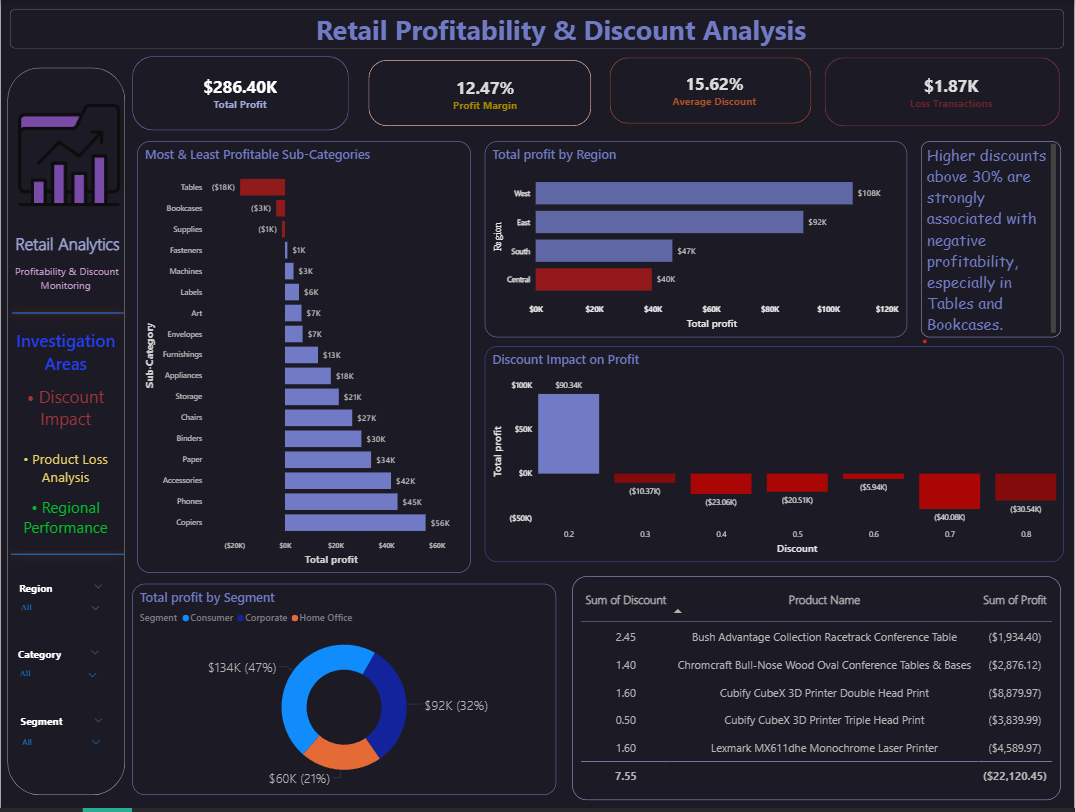

The page's visual inventory and layout, read from the dashboard file:
{"tool":"powerbi","page":{"name":"Page 1","canvas":[1700,1280],"ordinal":0},"visuals":[{"type":"shape","box":[13.5,13.5,1669.2,63.5],"z":0},{"type":"shape","box":[964,91.3,319.1,104.6],"z":0,"group":"g8"},{"type":"group","id":"g1","title":"Group 4","box":[6.8,106,196,1152],"z":0,"group":"g3"},{"type":"slicer","fields":{"Values":["retail_sales.Region"]},"box":[16.7,912.4,156.7,101],"z":0,"group":"g11"},{"type":"textbox","box":[17.3,11.5,1607.7,76.9],"z":1000},{"type":"cardVisual","fields":{"Data":["retail_sales.Average Discount"]},"box":[995,97.9,268.8,89.7],"z":1000,"group":"g8"},{"type":"shape","box":[2,860,208,33.5],"z":1000,"group":"g3"},{"type":"slicer","fields":{"Values":["retail_sales.Category"]},"box":[15.3,1017.7,153.8,105.3],"z":1000,"group":"g11"},{"type":"shape","box":[1304.7,91.3,372.2,108.8],"z":2000,"group":"g12"},{"type":"group","id":"g2","title":"Group 2","box":[214.8,224.1,527.8,681.5],"z":2000},{"type":"shape","box":[3.9,472.2,204.1,45.1],"z":2000,"group":"g3"},{"type":"slicer","fields":{"Values":["retail_sales.Segment"]},"box":[18.1,1125.2,155.3,92.4],"z":2000,"group":"g11"},{"type":"shape","box":[581.9,94.2,352.5,104.6],"z":3000,"group":"g10"},{"type":"group","id":"g3","title":"Group 5","box":[2,106,208,1152],"z":3000,"group":"g13"},{"type":"textbox","box":[7.9,360.8,194.8,67.9],"z":3000,"group":"g11"},{"type":"group","id":"g4","title":"Group 6","box":[765.9,548.2,916.3,342.4],"z":3000},{"type":"group","id":"g5","title":"Group 12","box":[207.7,88.5,1469.2,117.3],"z":4000},{"type":"cardVisual","fields":{"Data":["retail_sales.Loss Transactions"]},"box":[1352.1,97.4,305.3,96.1],"z":4000,"group":"g12"},{"type":"textbox","box":[7.9,413.2,188.9,67.9],"z":4000,"group":"g11"},{"type":"group","id":"g6","title":"Group 1","box":[207.7,88.5,342.7,117.3],"z":5000,"group":"g5"},{"type":"shape","box":[207.7,88.5,342.7,117.3],"z":5000,"group":"g6"},{"type":"clusteredBarChart","fields":{"Y":["retail_sales.Total profit"],"Category":["retail_sales.Region"]},"box":[765.9,223.6,668.9,310.7],"z":5000},{"type":"textbox","box":[6.8,516.1,192.8,361],"z":5000,"group":"g11"},{"type":"clusteredColumnChart","title":"Discount Impact on Profit","fields":{"Category":["retail_sales.Discount"],"Y":["retail_sales.Total profit"]},"box":[765.9,548.2,916.9,341.4],"z":5000,"group":"g14"},{"type":"shape","box":[11.5,106,186.7,1152],"z":5001,"group":"g1"},{"type":"group","id":"g7","title":"Group 7","box":[581.9,94.2,352.5,104.6],"z":6000,"group":"g5"},{"type":"cardVisual","fields":{"Data":["retail_sales.Profit Margin"]},"box":[621.6,101.6,290.4,92],"z":6000,"group":"g10"},{"type":"donutChart","fields":{"Category":["retail_sales.Segment"],"Y":["retail_sales.Total profit"]},"box":[207.8,924.2,670.9,334.4],"z":6000},{"type":"group","id":"g8","title":"Group 10","box":[964,91.3,319.1,104.6],"z":7000,"group":"g5"},{"type":"cardVisual","fields":{"Data":["retail_sales.Total profit"]},"box":[238.9,95.5,278.8,100.5],"z":7000,"group":"g6"},{"type":"clusteredBarChart","title":"Most & Least Profitable Sub-Categories","fields":{"Y":["retail_sales.Total profit"],"Category":["retail_sales.Sub-Category"]},"box":[214.8,224.1,527.7,683.1],"z":7000,"group":"g2"},{"type":"tableEx","fields":{"Values":["Sum(retail_sales.Discount)","retail_sales.Product Name","Sum(retail_sales.Profit)"]},"box":[904.4,912.3,773.8,354.2],"z":7000},{"type":"group","id":"g9","title":"Group 8","box":[581.9,94.2,352.5,104.6],"z":7003,"group":"g7"},{"type":"group","id":"g10","title":"Group 9","box":[581.9,94.2,352.5,104.6],"z":7003,"group":"g9"},{"type":"group","id":"g11","title":"Group 3","box":[6.8,360.8,196,856.8],"z":7003,"group":"g1"},{"type":"group","id":"g12","title":"Group 11","box":[1304.7,91.3,372.2,108.8],"z":8000,"group":"g5"},{"type":"group","id":"g13","title":"Group 14","box":[2,106,208,1152],"z":8000},{"type":"image","box":[16,164,184,162],"z":8002,"group":"g13"},{"type":"group","id":"g14","title":"Group 13","box":[765.9,548.2,916.2,342.3],"z":8002,"group":"g4"},{"type":"textbox","box":[1456.5,223.6,221.6,310.7],"z":9000}]}

Visuals, with their boxes in screenshot pixels (x1, y1, x2, y2), scaled from the page's 1700x1280 canvas onto the 1075x812 screenshot:
shape: detection(9, 9, 1064, 49)
shape: detection(610, 58, 811, 124)
"Group 4" group: detection(4, 67, 128, 798)
slicer - retail_sales.Region: detection(11, 579, 110, 643)
textbox: detection(11, 7, 1028, 56)
cardVisual - retail_sales.Average Discount: detection(629, 62, 799, 119)
shape: detection(1, 546, 133, 567)
slicer - retail_sales.Category: detection(10, 646, 107, 712)
shape: detection(825, 58, 1060, 127)
"Group 2" group: detection(136, 142, 470, 574)
shape: detection(2, 300, 132, 328)
slicer - retail_sales.Segment: detection(11, 714, 110, 772)
shape: detection(368, 60, 591, 126)
"Group 5" group: detection(1, 67, 133, 798)
textbox: detection(5, 229, 128, 272)
"Group 6" group: detection(484, 348, 1064, 565)
"Group 12" group: detection(131, 56, 1060, 131)
cardVisual - retail_sales.Loss Transactions: detection(855, 62, 1048, 123)
textbox: detection(5, 262, 124, 305)
"Group 1" group: detection(131, 56, 348, 131)
shape: detection(131, 56, 348, 131)
clusteredBarChart - retail_sales.Total profit x retail_sales.Region: detection(484, 142, 907, 339)
textbox: detection(4, 327, 126, 556)
"Discount Impact on Profit" clusteredColumnChart: detection(484, 348, 1064, 564)
shape: detection(7, 67, 125, 798)
"Group 7" group: detection(368, 60, 591, 126)
cardVisual - retail_sales.Profit Margin: detection(393, 64, 577, 123)
donutChart - retail_sales.Segment x retail_sales.Total profit: detection(131, 586, 556, 798)
"Group 10" group: detection(610, 58, 811, 124)
cardVisual - retail_sales.Total profit: detection(151, 61, 327, 124)
"Most & Least Profitable Sub-Categories" clusteredBarChart: detection(136, 142, 470, 576)
tableEx - Sum(retail_sales.Discount) x retail_sales.Product Name: detection(572, 579, 1061, 803)
"Group 8" group: detection(368, 60, 591, 126)
"Group 9" group: detection(368, 60, 591, 126)
"Group 3" group: detection(4, 229, 128, 772)
"Group 11" group: detection(825, 58, 1060, 127)
"Group 14" group: detection(1, 67, 133, 798)
image: detection(10, 104, 126, 207)
"Group 13" group: detection(484, 348, 1064, 565)
textbox: detection(921, 142, 1061, 339)
